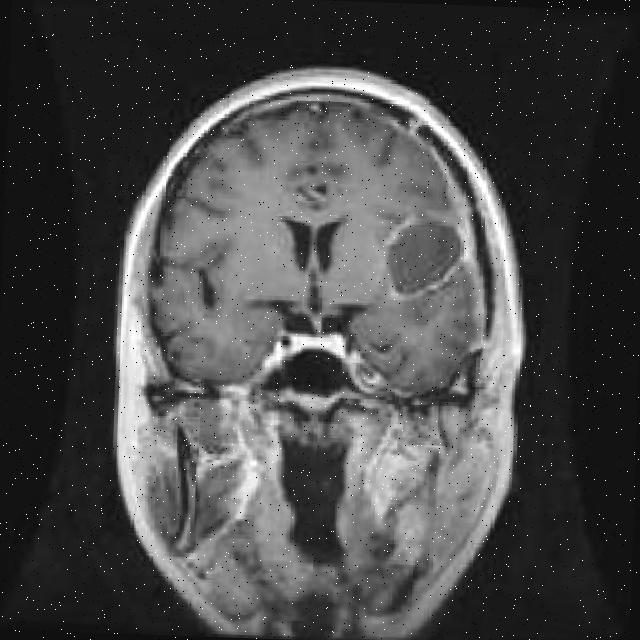MCI: (358, 208, 504, 384)
